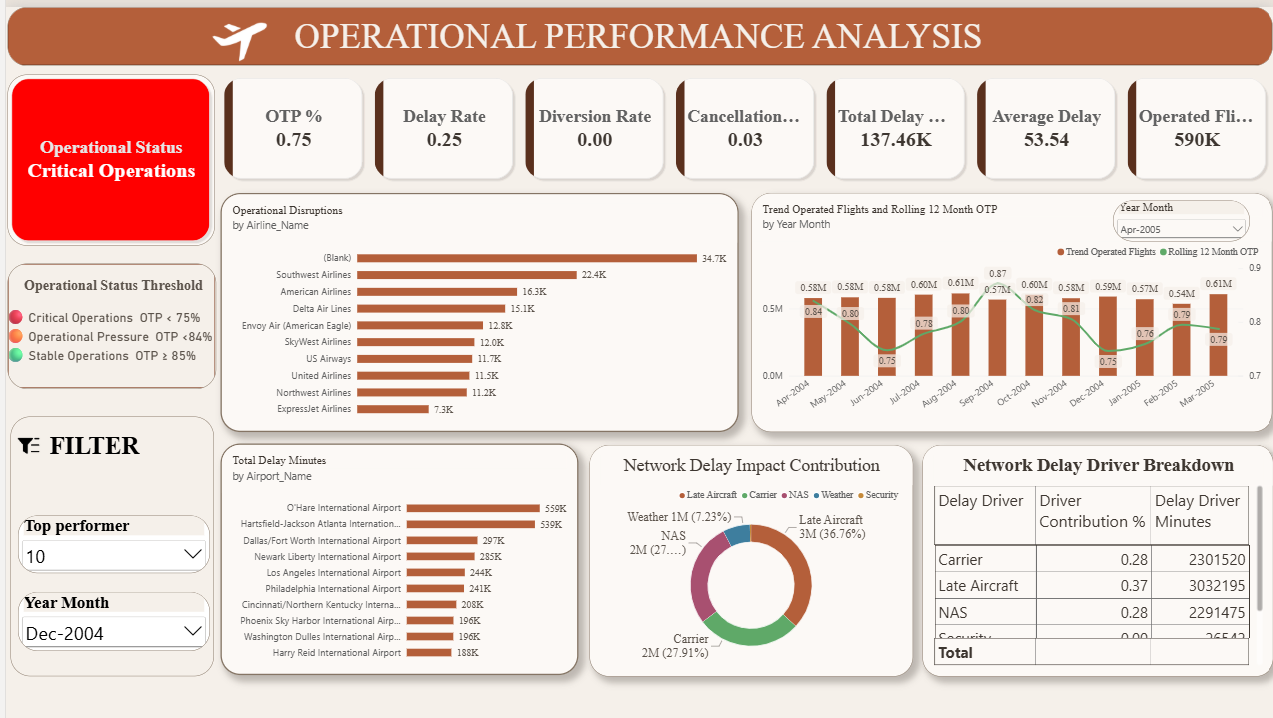

Layout of this report page (visuals, bound fields, positions):
{"tool":"powerbi","page":{"name":"AIRPORT ARRIVAL","canvas":[1920,1080],"ordinal":0},"visuals":[{"type":"shape","box":[7.7,619.8,308,393.2],"z":0},{"type":"cardVisual","fields":{"Data":["airline_delay_cause.OTP %","airline_delay_cause.Delay Rate","airline_delay_cause.Diversion Rate","airline_delay_cause.Cancellation Rate","airline_delay_cause.Total Delay Hours","airline_delay_cause.Average Delay","airline_delay_cause.Operated Flights"]},"box":[325.4,102.7,1594.5,163.5],"z":1000},{"type":"cardVisual","fields":{"Data":["airline_delay_cause.Operational Status"]},"box":[1.9,102.7,313.8,259.5],"z":2000},{"type":"barChart","fields":{"Category":["airlines_lookup.Airline_Name"],"Y":["airline_delay_cause.Operational Disruptions"]},"box":[325.4,280.8,784.4,362.2],"z":3000},{"type":"clusteredBarChart","fields":{"Category":["airports_lookup.Airport_Name"],"Y":["airline_delay_cause.Total Delay Minutes"]},"box":[325.4,660.4,542.3,350.6],"z":4000},{"type":"donutChart","title":"Network Delay Impact Contribution ","fields":{"Category":["Delay Drivers.Delay Driver"],"Y":["Delay Drivers.Delay Driver Minutes"]},"box":[883.5,663.2,490,350.6],"z":5000},{"type":"tableEx","title":"Network Delay Driver Breakdown","fields":{"Values":["Delay Drivers.Delay Driver","Delay Drivers.Driver Contribution %","Delay Drivers.Delay Driver Minutes"]},"box":[1387.8,663.2,532.6,350.6],"z":6000},{"type":"lineClusteredColumnComboChart","fields":{"Category":["Dim Date.Year Month"],"Y":["airline_delay_cause.Trend Operated Flights"],"Y2":["airline_delay_cause.Trend OTP %"]},"box":[1129.2,280.8,790.2,362.2],"z":7000},{"type":"slicer","fields":{"Values":["Month Selector.Year Month"]},"box":[1677.3,292.5,207.2,62],"z":8000},{"type":"slicer","fields":{"Values":["Top N.Top performer"]},"box":[17.4,770.8,290.5,87.2],"z":9000},{"type":"slicer","fields":{"Values":["Dim Date.Year Month"]},"box":[17.4,885.1,290.5,89.1],"z":10000},{"type":"textbox","box":[0,408.7,325.4,168.5],"z":11000},{"type":"textbox","box":[65.9,643,211.1,42.6],"z":12000},{"type":"shape","box":[1.9,387.4,315.7,189.8],"z":13000},{"type":"shape","box":[1.9,0,1917.4,89.1],"z":14000},{"type":"image","box":[205.3,0,300.2,89.1],"z":15000},{"type":"image","box":[1.9,617.8,63.9,93],"z":16000}]}

Visuals, with their boxes in screenshot pixels (x1, y1, x2, y2), scaled from the page's 1920x1080 canvas onto the 1273x718 screenshot:
shape: x1=5, y1=412, x2=209, y2=673
cardVisual - airline_delay_cause.OTP % x airline_delay_cause.Delay Rate: x1=216, y1=68, x2=1272, y2=177
cardVisual - airline_delay_cause.Operational Status: x1=1, y1=68, x2=209, y2=241
barChart - airlines_lookup.Airline_Name x airline_delay_cause.Operational Disruptions: x1=216, y1=187, x2=736, y2=427
clusteredBarChart - airports_lookup.Airport_Name x airline_delay_cause.Total Delay Minutes: x1=216, y1=439, x2=575, y2=672
"Network Delay Impact Contribution " donutChart: x1=586, y1=441, x2=911, y2=674
"Network Delay Driver Breakdown" tableEx: x1=920, y1=441, x2=1272, y2=674
lineClusteredColumnComboChart - Dim Date.Year Month x airline_delay_cause.Trend Operated Flights: x1=749, y1=187, x2=1272, y2=427
slicer - Month Selector.Year Month: x1=1112, y1=194, x2=1249, y2=236
slicer - Top N.Top performer: x1=12, y1=512, x2=204, y2=570
slicer - Dim Date.Year Month: x1=12, y1=588, x2=204, y2=648
textbox: x1=0, y1=272, x2=216, y2=384
textbox: x1=44, y1=427, x2=184, y2=456
shape: x1=1, y1=258, x2=211, y2=384
shape: x1=1, y1=0, x2=1272, y2=59
image: x1=136, y1=0, x2=335, y2=59
image: x1=1, y1=411, x2=44, y2=473
